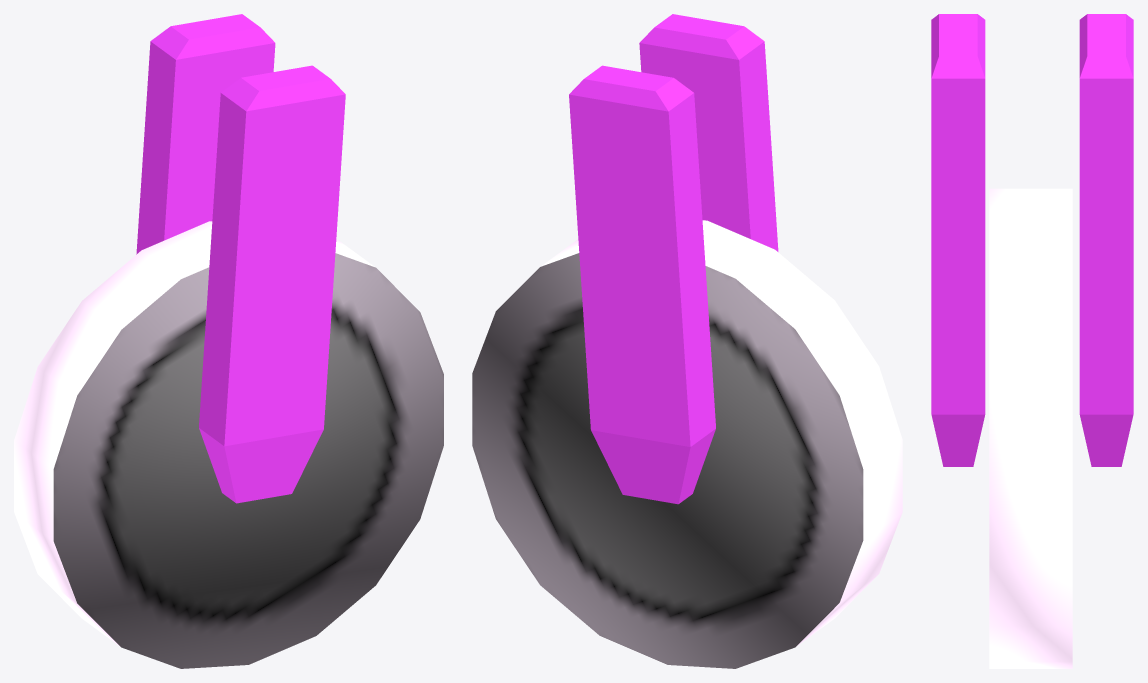
File: ersatzteil_vorderrad.fbx
3 renders of one model, left to right at view 1: azimuth 30°, elevation 25°; view 2: azimuth 150°, elevation 25°; view 3: azimuth 270°, elevation 25°, orthographic. The views are drawn at different scales.
Parts seen in each view (by area): view 1: Circle, Cube; view 2: Circle, Cube; view 3: Cube, Circle.
Part boxes in pixels (x1,y1,x2,y2): Circle: (14, 221, 443, 668); Cube: (136, 14, 345, 503); Circle: (472, 220, 902, 668); Cube: (569, 14, 778, 504); Cube: (931, 14, 1133, 466); Circle: (989, 188, 1072, 668).
Size of the model in its own units: 43.81 by 63.77 by 18.64.
3 materials, 1 textured.
